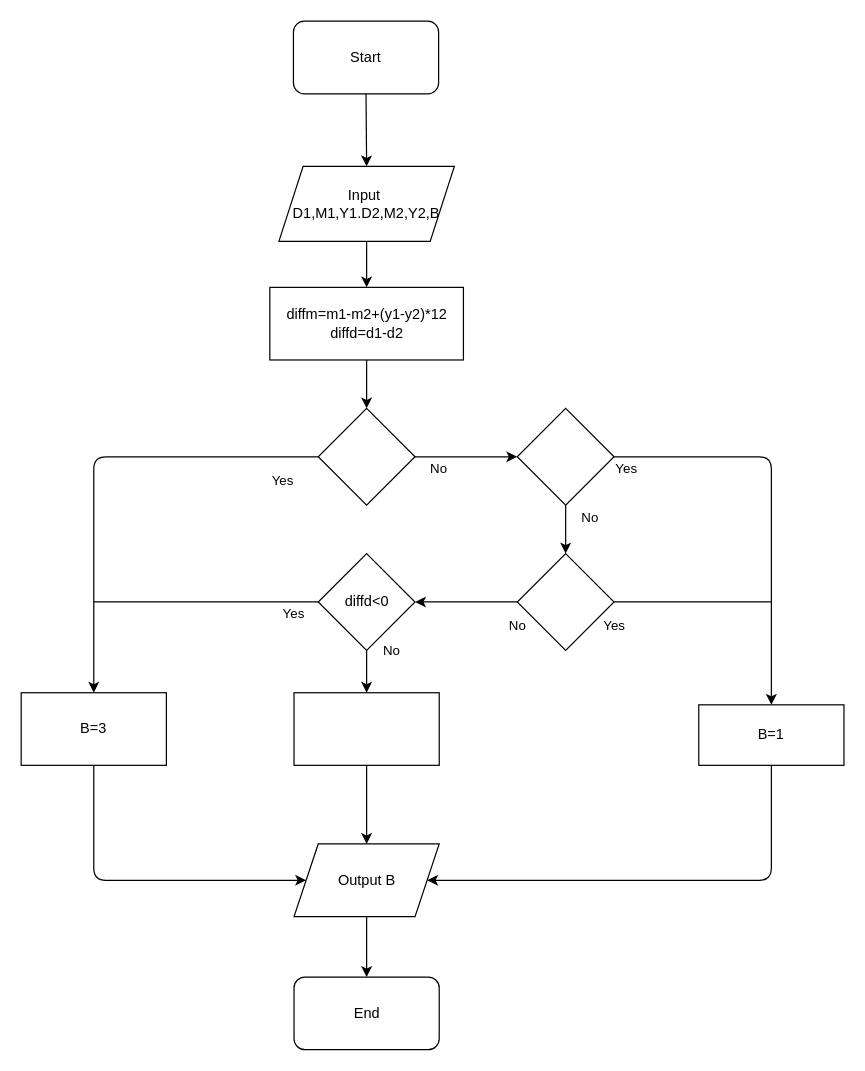
Some shapes in this 865 by 1071 pixel diagram are drawn without their labels. The shapes that lost their labels are listed below. From the top down, each one's centre as x and y in pixels, then its label:
(366,456): diffm<0
(565,456): diff>0
(565,601): diffd>0
(366,728): B=2
